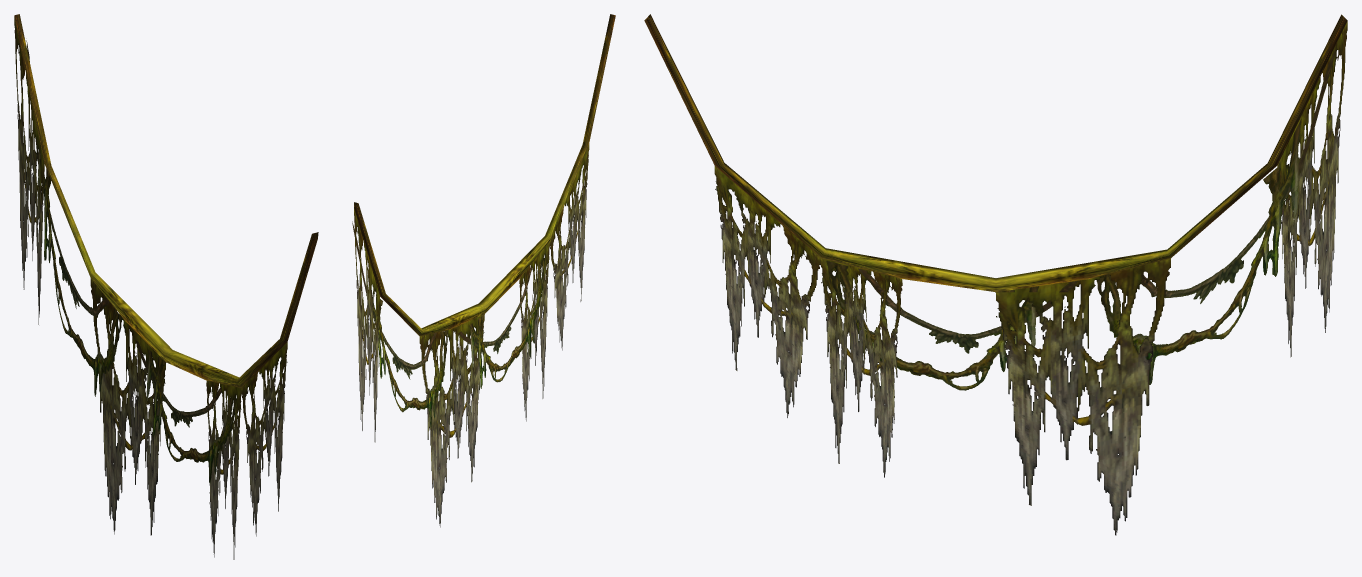
Rendered from swamphangingvines02.obj.
3 renders of one model, left to right at view 1: azimuth 30°, elevation 25°; view 2: azimuth 150°, elevation 25°; view 3: azimuth 270°, elevation 25°, orthographic. The views are drawn at different scales.
Parts seen in each view (by area): view 1: Geoset2, Geoset1, Geoset0; view 2: Geoset2, Geoset1, Geoset0; view 3: Geoset2, Geoset0, Geoset1.
Part boxes in pixels (<box>): Geoset2: <box>14,17,287,559</box>; Geoset1: <box>14,14,318,388</box>; Geoset0: <box>26,40,236,483</box>; Geoset2: <box>354,144,589,527</box>; Geoset1: <box>354,14,615,336</box>; Geoset0: <box>352,221,545,427</box>; Geoset2: <box>714,21,1347,535</box>; Geoset0: <box>826,47,1336,390</box>; Geoset1: <box>644,14,1347,291</box>.
Bounding box in the file's own units: 0.8649 × 28.57 × 33.27.
Materials: 3 (3 with a texture image).
